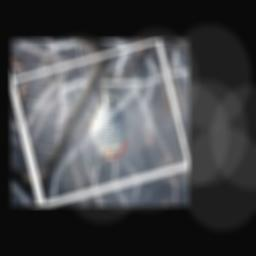Woodpecker: (71, 79, 139, 169)
